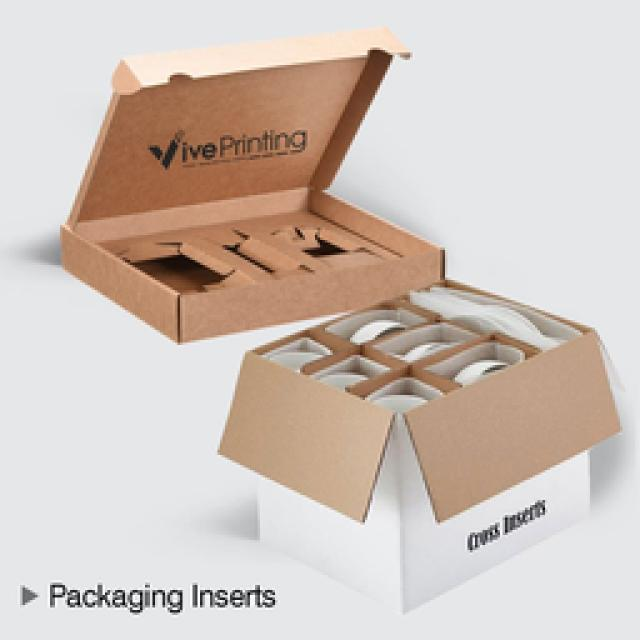cardboard: (60, 30, 618, 610)
